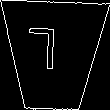L_S: (37, 30, 69, 81)
